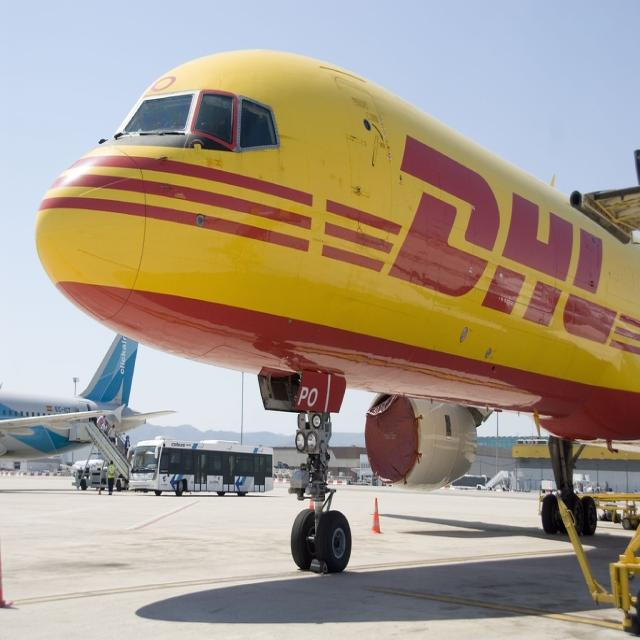dhl: (315, 114, 640, 364)
